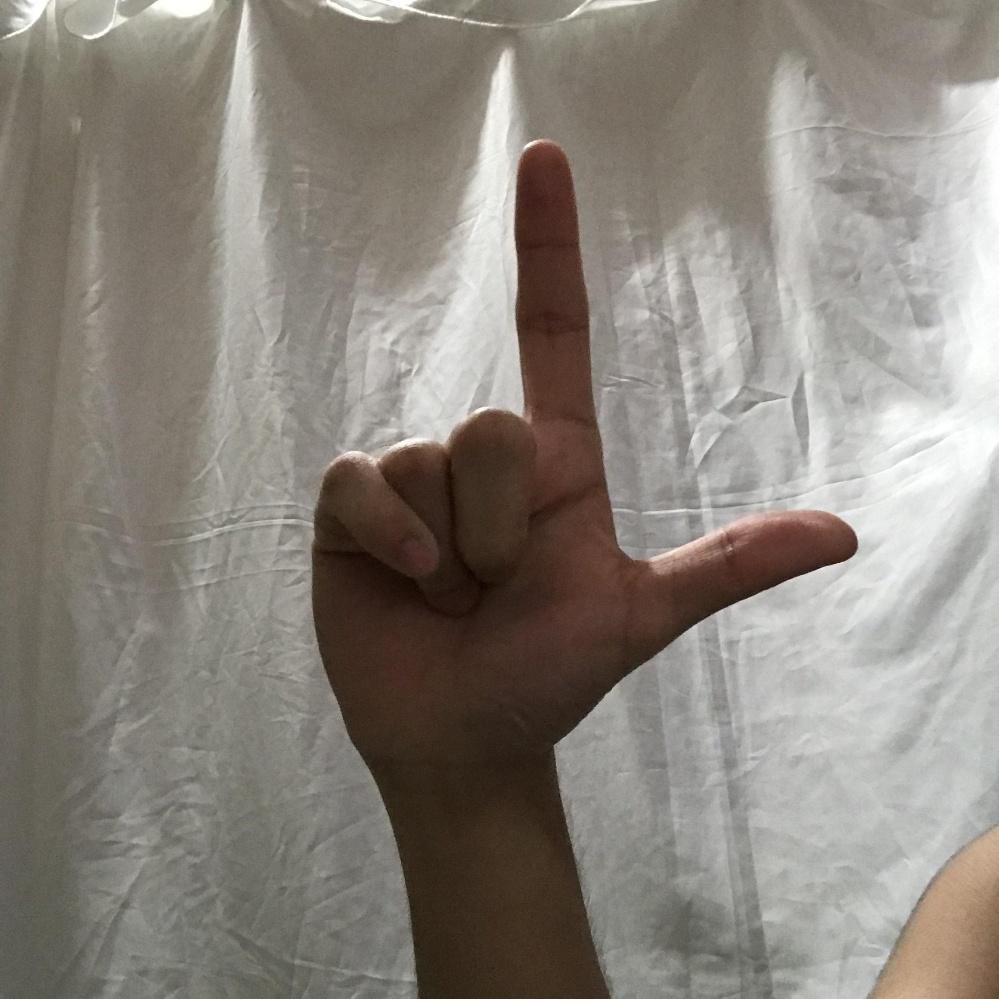l: (310, 139, 853, 771)
